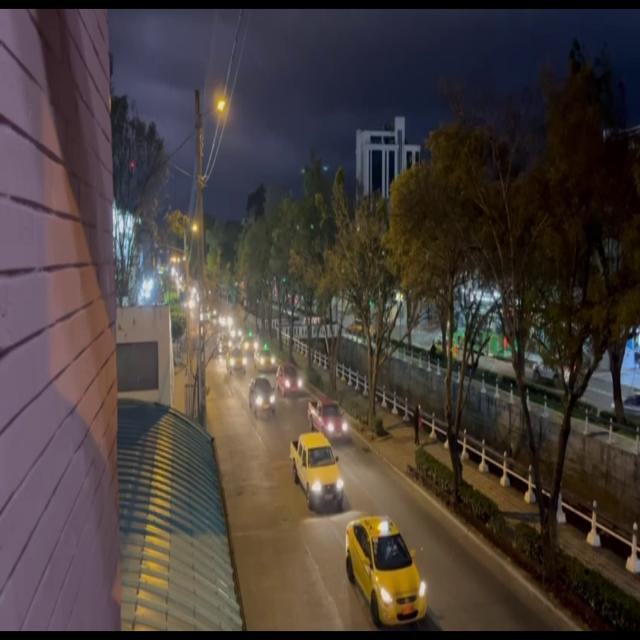CMT: (308, 398, 348, 439)
SUV: (253, 377, 278, 417)
